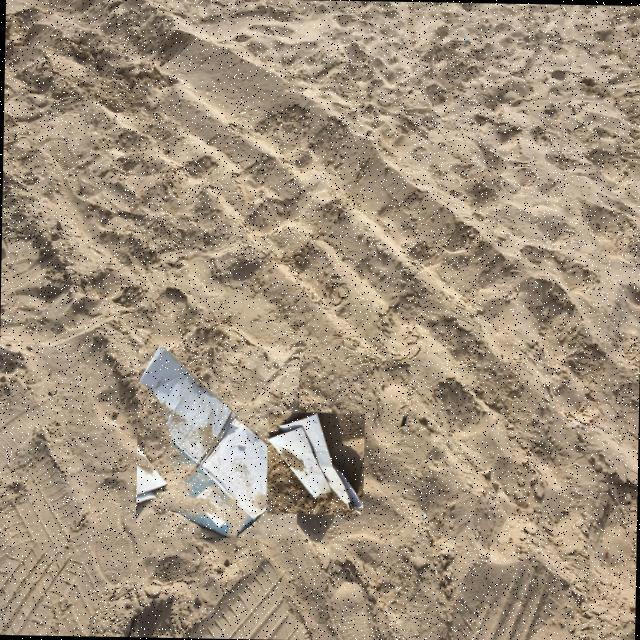Corrugated carton: (139, 345, 296, 537), (268, 413, 363, 515)
Unlabeled litter: (49, 390, 56, 398), (422, 512, 426, 519)
